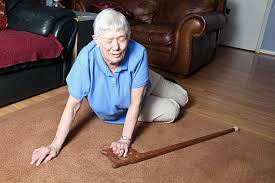collapsed: (21, 4, 194, 169)
